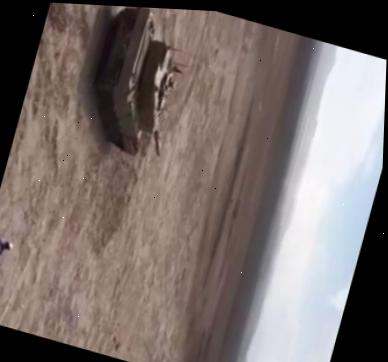tank: (77, 4, 196, 164)
